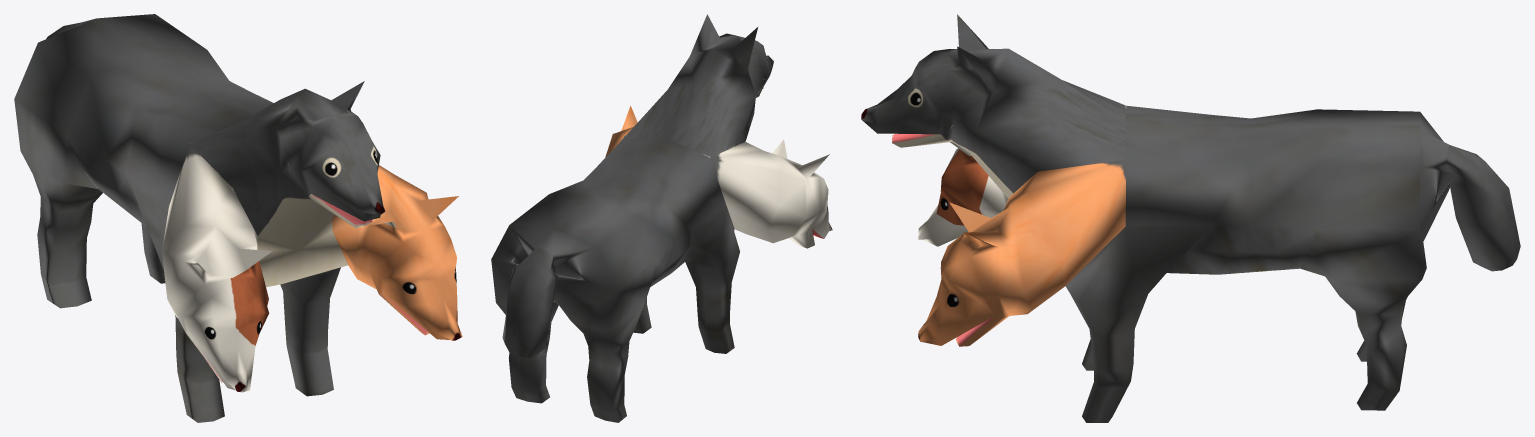
Rendered from Cerberus_og2.fbx.
The picture shows the model from 3 angles, left to right: view 1: azimuth 30°, elevation 25°; view 2: azimuth 150°, elevation 25°; view 3: azimuth 270°, elevation 25°; orthographic projection. The views are drawn at different scales.
Visible parts, largest first — view 1: Cerberus; view 2: Cerberus; view 3: Cerberus.
Boxes of the visible parts, x1,y1,x2,y2 form: Cerberus: [14, 14, 462, 422]; Cerberus: [491, 14, 832, 422]; Cerberus: [861, 14, 1520, 422].
Bounding box in the file's own units: 165 × 210 × 349.
